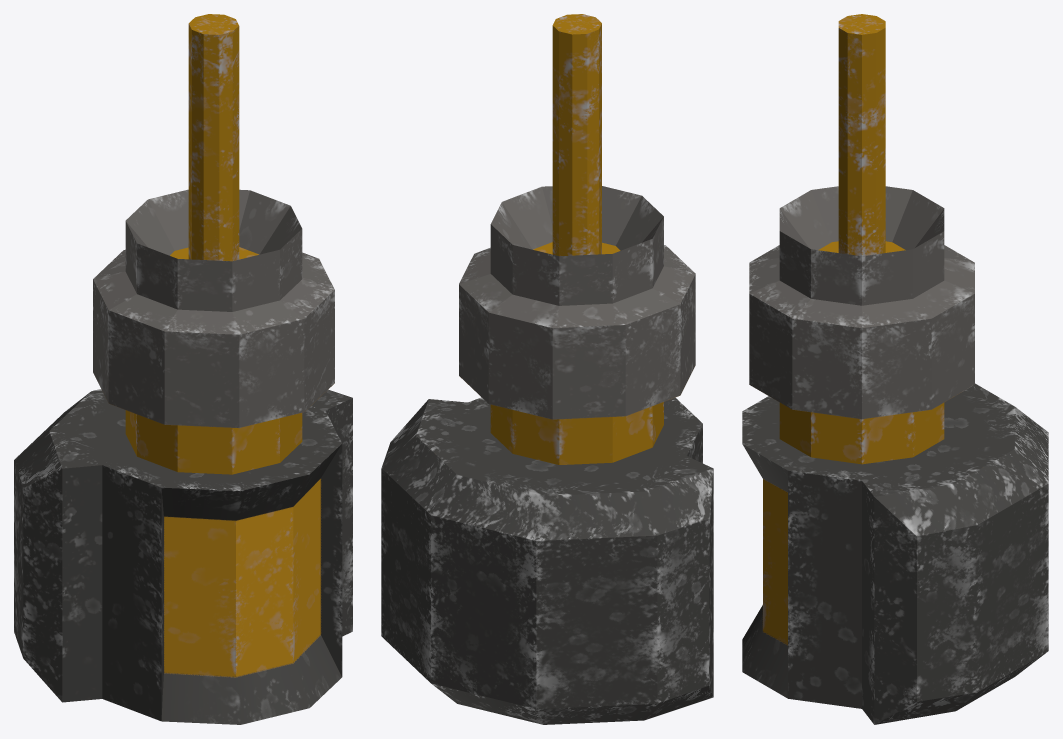
Rendered from Machine_Déco_9.fbx.
3 views of the same model, side by side, from view 1: azimuth 30°, elevation 25°; view 2: azimuth 150°, elevation 25°; view 3: azimuth 270°, elevation 25° (orthographic). The views are drawn at different scales.
Visible parts, largest first — view 1: polySurface86; view 2: polySurface86; view 3: polySurface86.
Boxes of the visible parts, x1,y1,x2,y2 form: polySurface86: (14, 14, 352, 724); polySurface86: (381, 14, 713, 724); polySurface86: (742, 14, 1048, 724).
Bounding box in the file's own units: 2.91 × 5.54 × 2.43.
